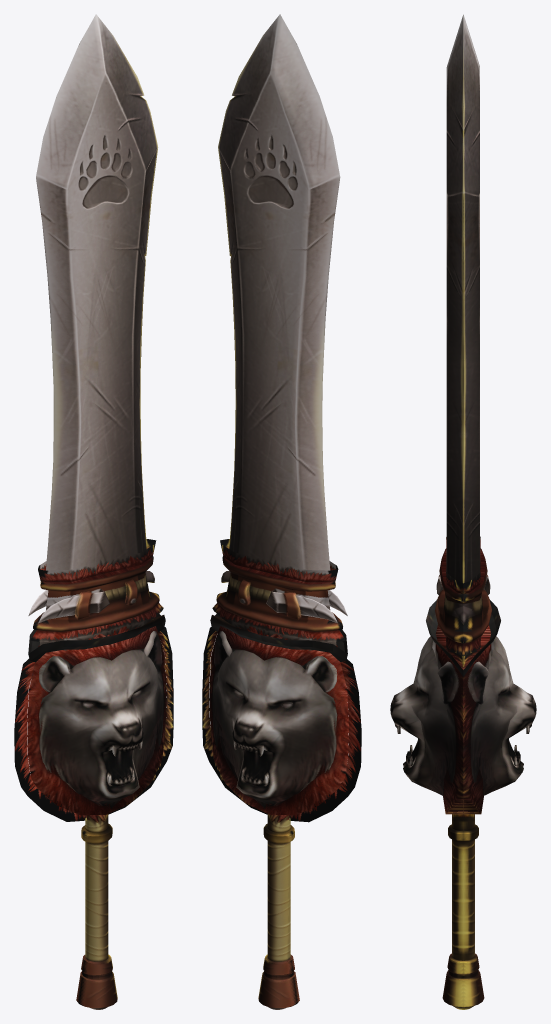
File: sm_sword_128.gltf
3 renders of one model, left to right at view 1: azimuth 30°, elevation 25°; view 2: azimuth 150°, elevation 25°; view 3: azimuth 270°, elevation 25°, orthographic.
Visible parts, largest first — view 1: SM_Sword_128; view 2: SM_Sword_128; view 3: SM_Sword_128.
Part boxes in pixels (x1=…): SM_Sword_128: x1=14, y1=14, x2=173, y2=1009; SM_Sword_128: x1=202, y1=14, x2=361, y2=1009; SM_Sword_128: x1=390, y1=14, x2=536, y2=1009.
Size of the model in its own units: 0.252 by 1.5 by 0.2003.
1 material, 1 textured.
